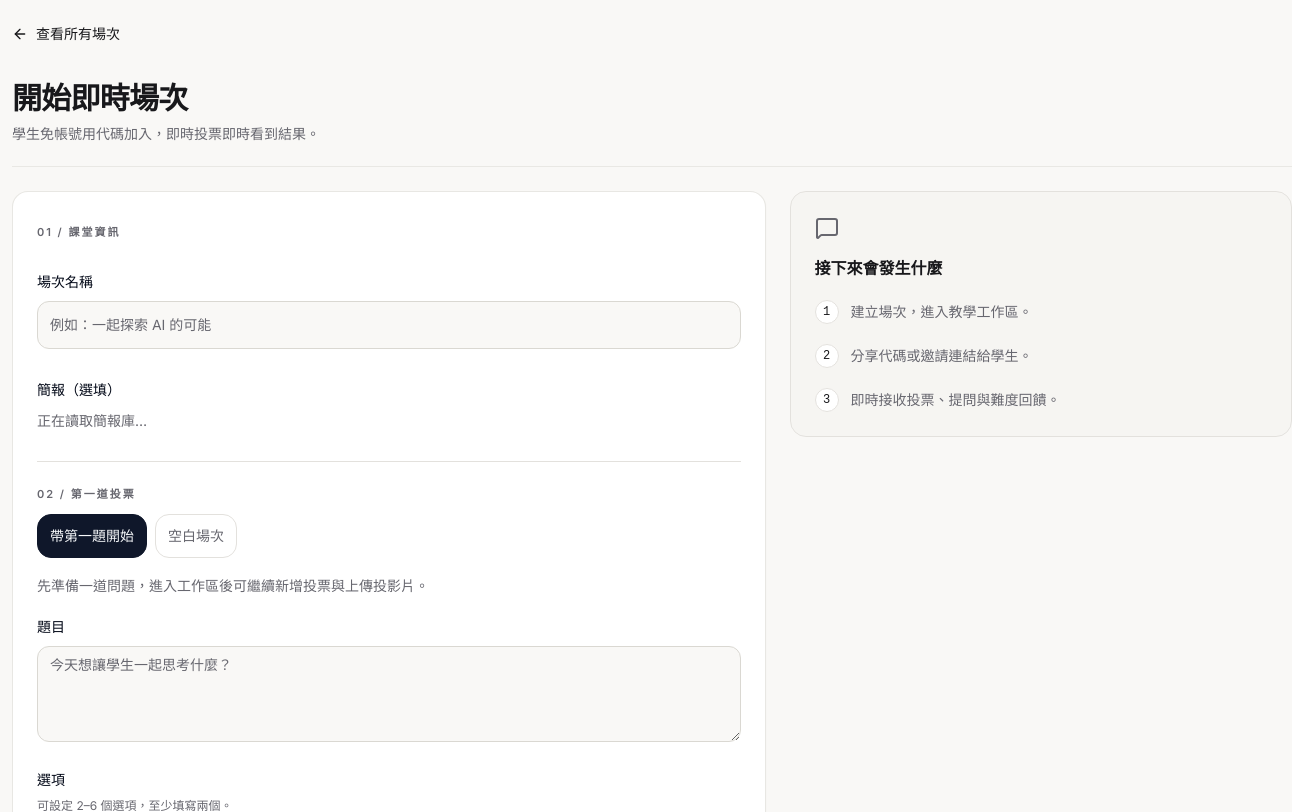
it: Live Session experience › creates a blank session with no poll when that mode is chosen
Click the button "空白場次".
click(196, 536)  # box x1=155 y1=514 x2=237 y2=558
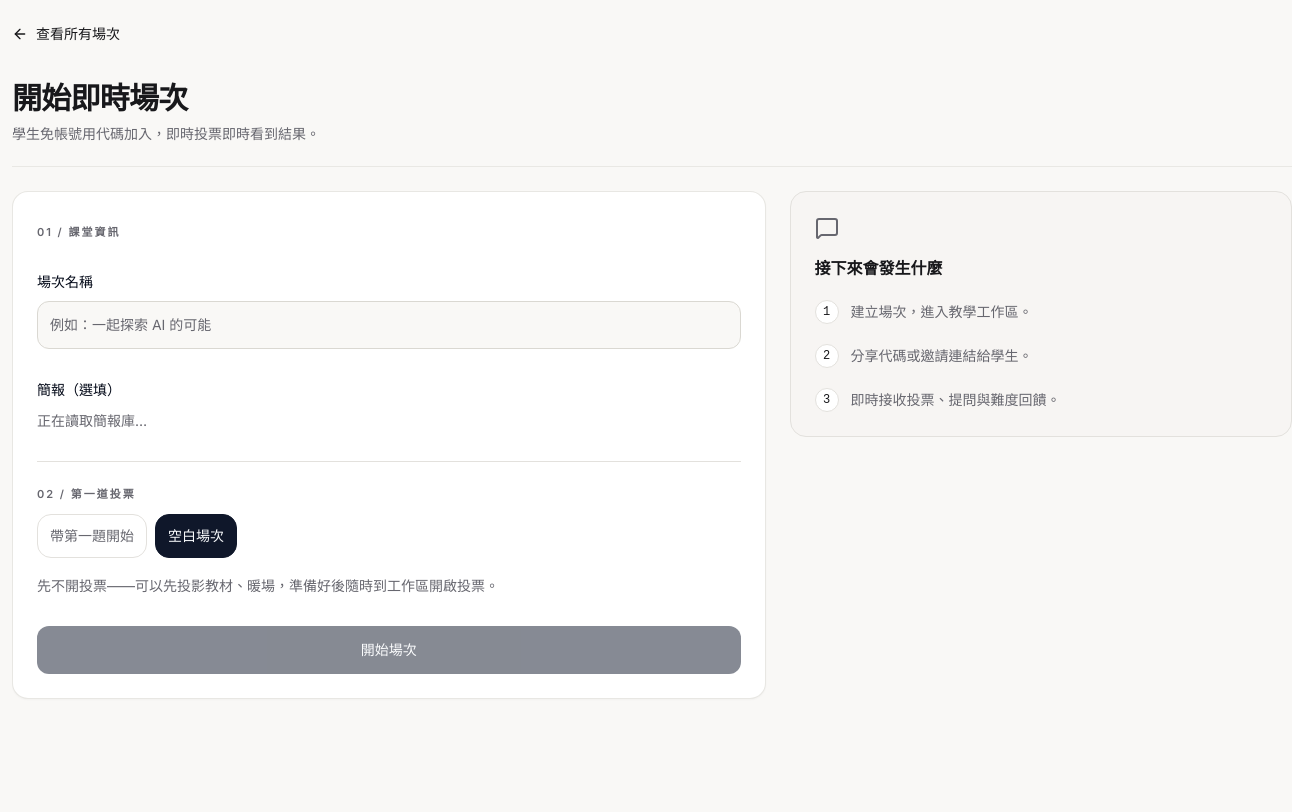
Expected: the button "開始場次" is disabled, x1=37 y1=626 x2=741 y2=674
Expected: the label labelled "題目" is gone
Type " 暖場 " into the field labelled "場次名稱".
click(389, 324); type(" 暖場 ")  # box x1=37 y1=300 x2=741 y2=348
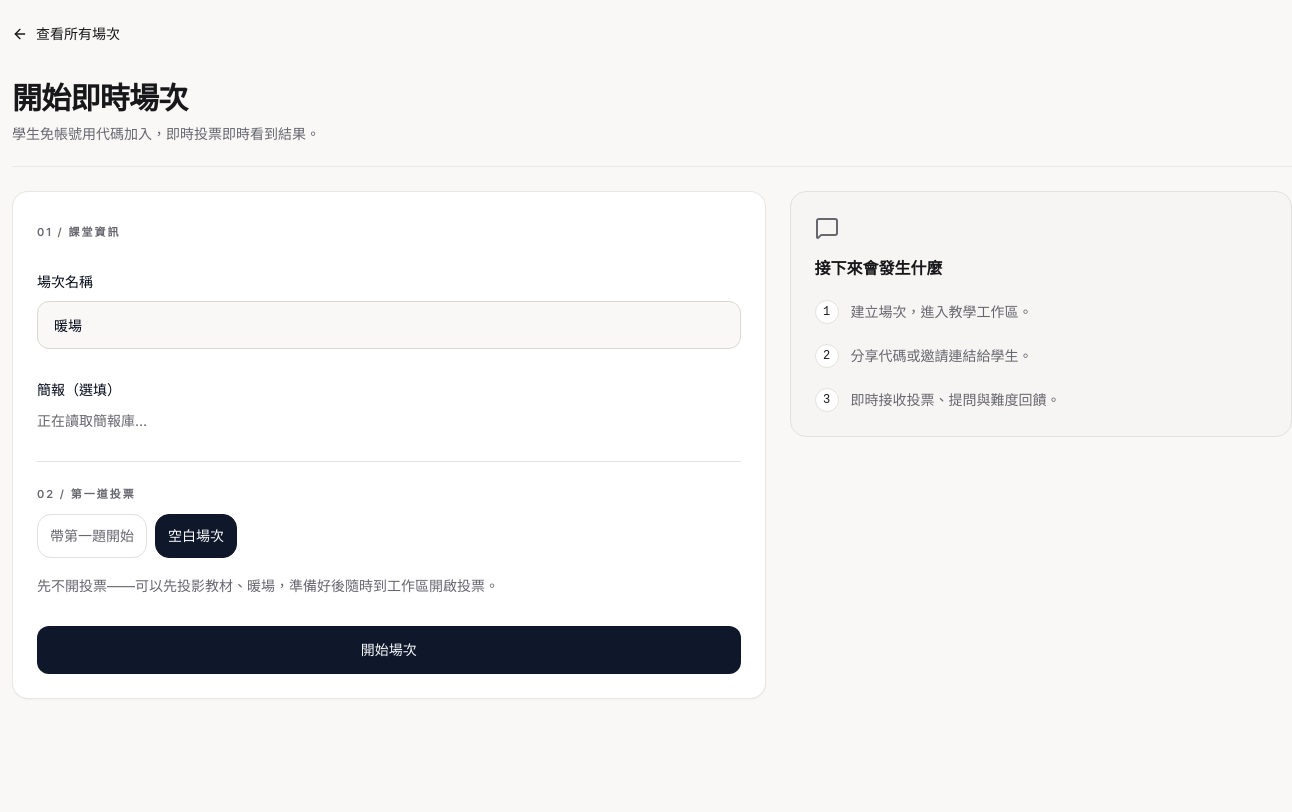
Expected: the button "開始場次" is enabled
Click the button "開始場次".
click(389, 650)  # box x1=37 y1=626 x2=741 y2=674
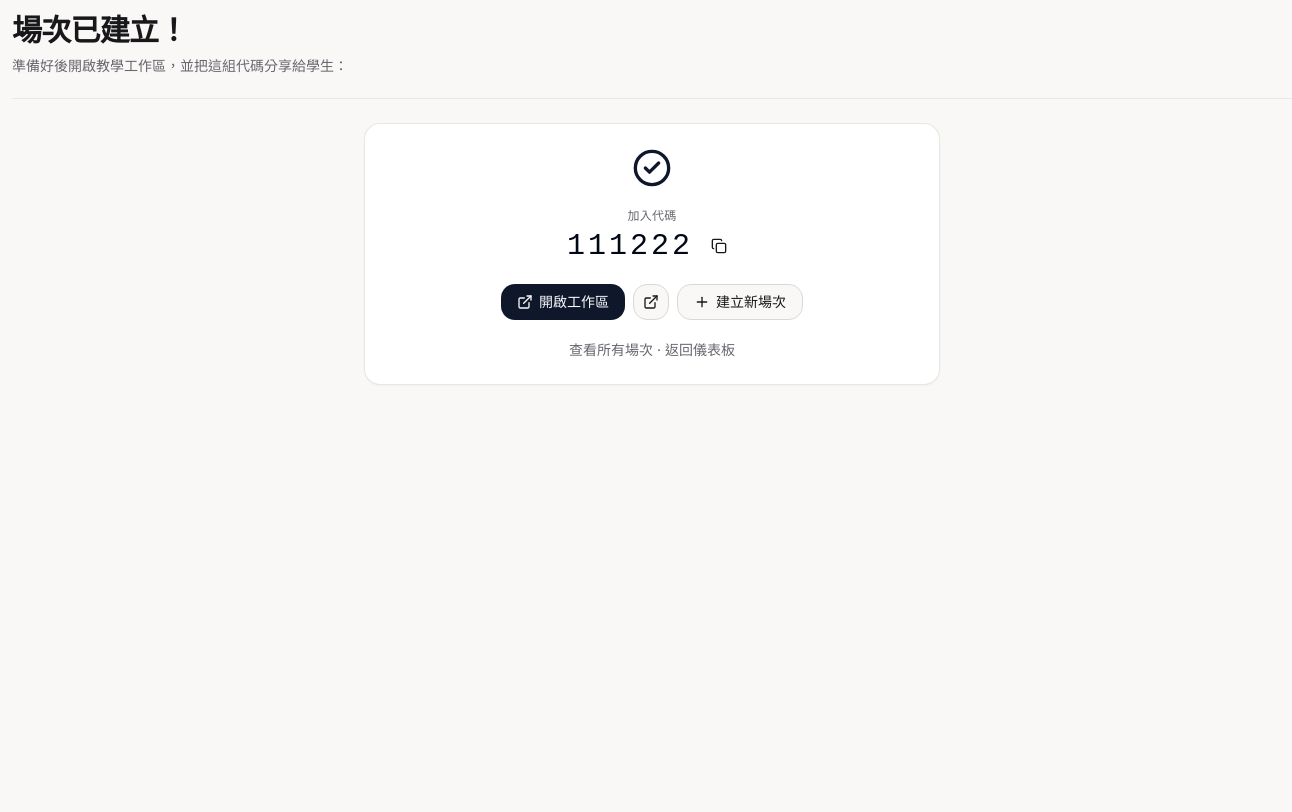
Expected: the heading "場次已建立！" is shown, x1=12 y1=12 x2=188 y2=48
